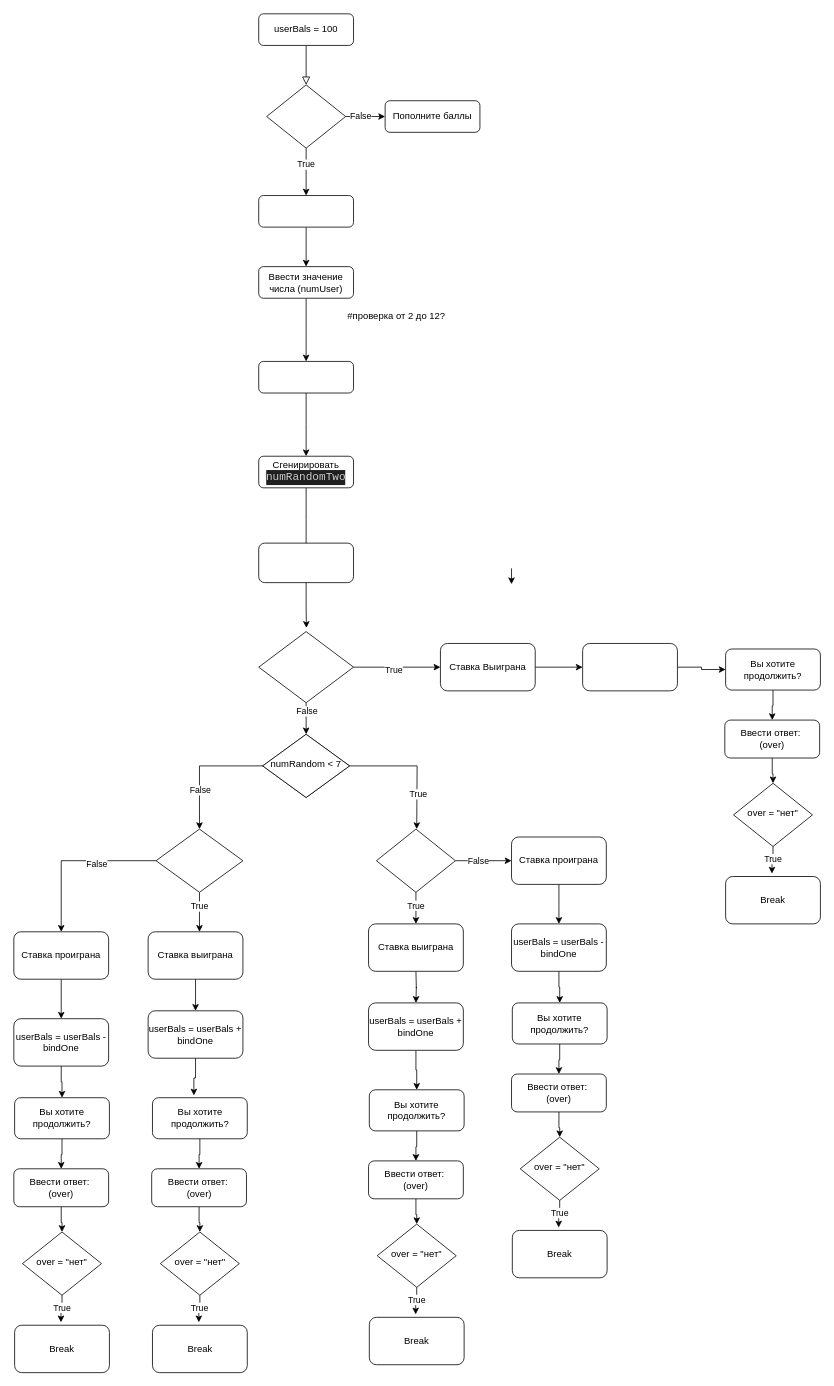
Image size: 834x1386. Some labels were removed from this diagram. Here are the shapes that lost their labels. From the top down, the centre of each, then its label:
At pixel 306 116: "userBals > 0".
At pixel 306 211: "Ввести значение ставки(bindOne)".
At pixel 306 377: "Сгенирировать numRandomOne".
At pixel 306 562: "numRandom = numRandomTwo+ numRandomOne".
At pixel 306 667: "numRandom == numUser".
At pixel 629 667: "userBals = bindOne * 4 + userBals".
At pixel 199 860: "numUser > 7".
At pixel 415 860: "numUser < 7".
